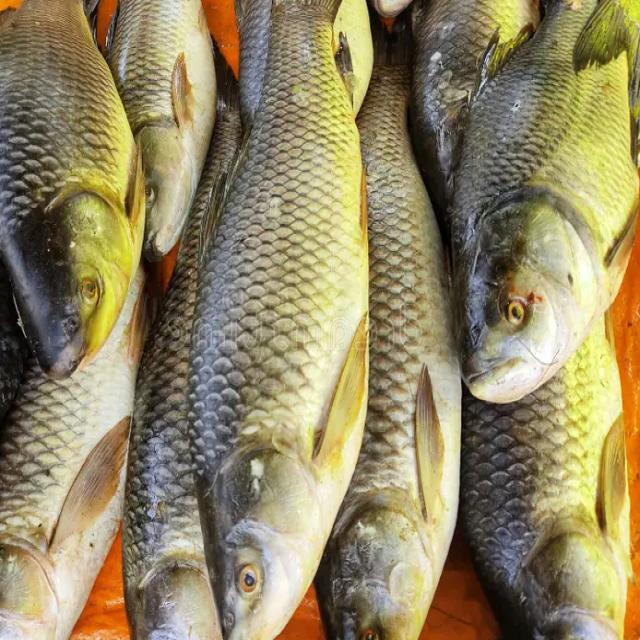Rohu: (186, 0, 371, 640), (0, 0, 145, 383)
